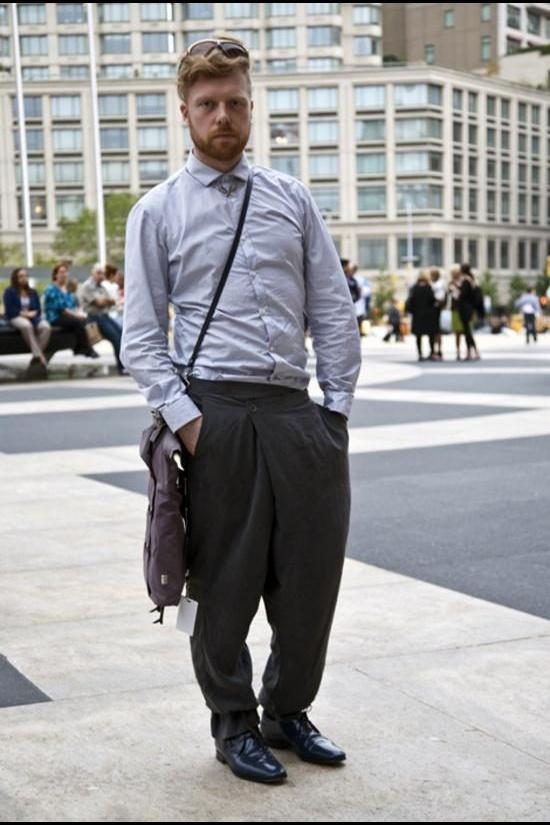pants: (174, 380, 352, 747)
shirt: (118, 146, 362, 436)
